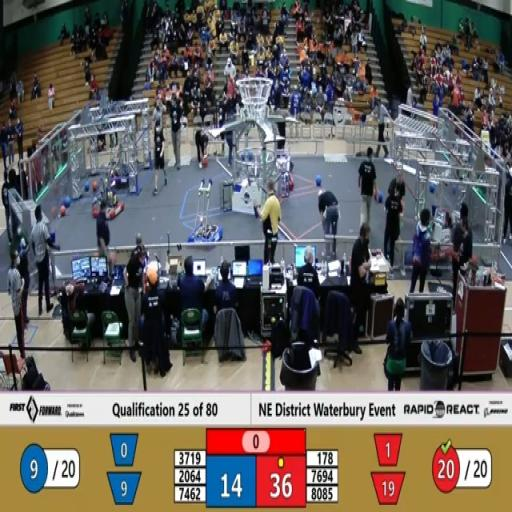robot: (183, 172, 226, 255), (426, 197, 458, 267), (264, 131, 298, 196), (93, 166, 126, 225), (108, 122, 136, 187)
